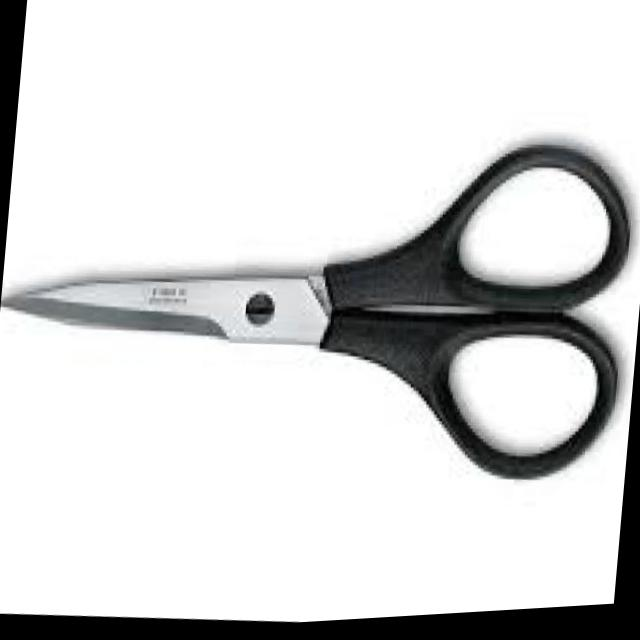scissor: (0, 103, 639, 519)
